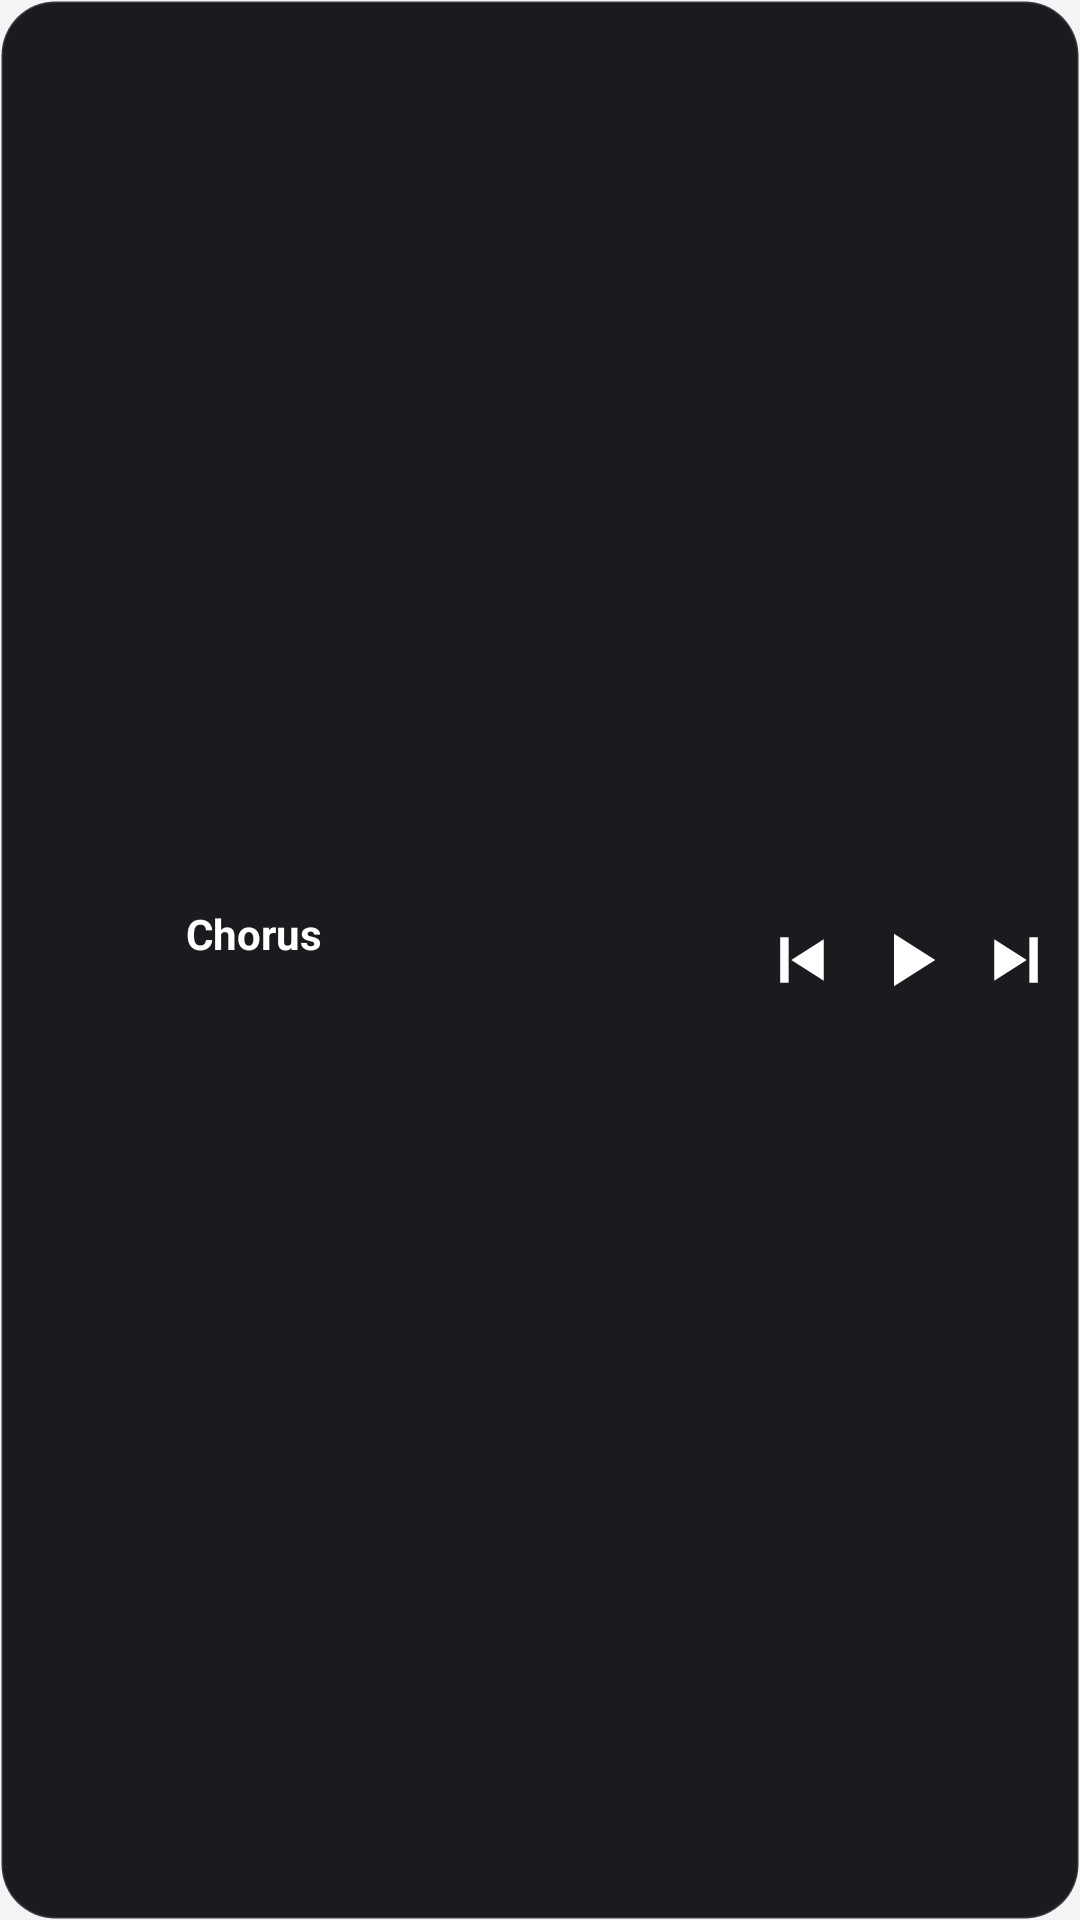

Named icons in this screenshot (1080×1920) and their centers, [x,y]:
Next track: [1016,960]
Play or pause: [914,960]
Previous track: [802,960]
